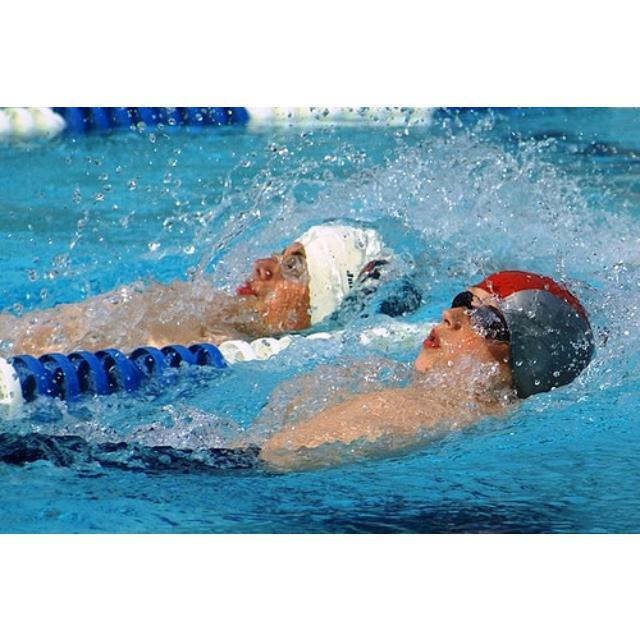human: (257, 269, 597, 472), (9, 215, 408, 366)
